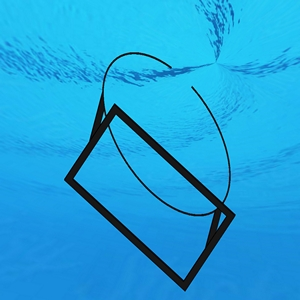circle: (64, 52, 244, 295)
